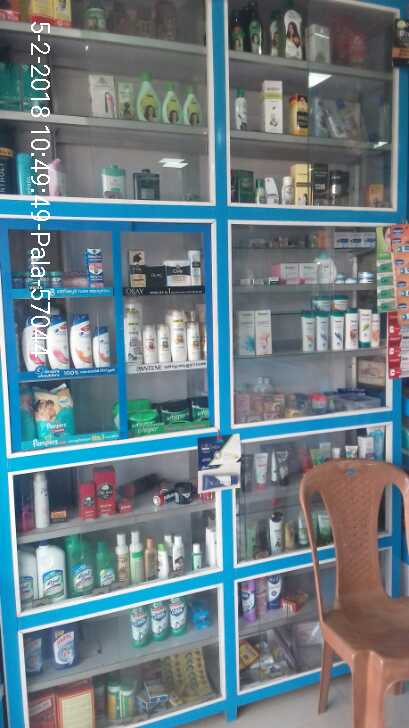vicks: (9, 245, 115, 290)
